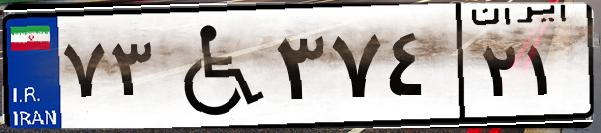1: (525, 38, 570, 115)
2: (475, 38, 525, 113)
3: (270, 28, 330, 110), (110, 28, 158, 98)
4: (385, 28, 445, 110)
7: (330, 28, 385, 110), (57, 26, 110, 100)
ژ (معلولین و جانبازان): (158, 12, 270, 120)
